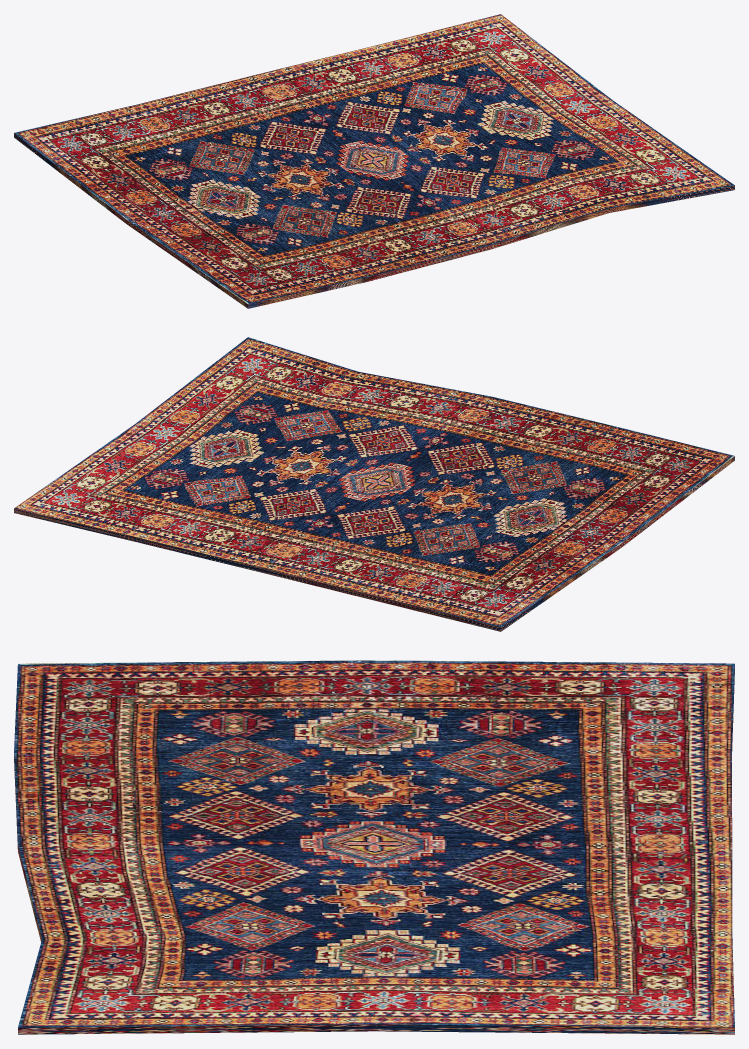
The model's file is Rug.fbx.
The picture shows the model from 3 angles, top to bottom: view 1: azimuth 30°, elevation 25°; view 2: azimuth 150°, elevation 25°; view 3: azimuth 270°, elevation 25°; orthographic projection. The views are drawn at different scales.
Parts seen in each view (by area): view 1: Rug; view 2: Rug; view 3: Rug.
Boxes of the visible parts, left/top/right/bottom form: Rug: left=14, top=14, right=734, bottom=308; Rug: left=14, top=337, right=734, bottom=631; Rug: left=14, top=660, right=734, bottom=1034.
Size of the model in its own units: 224 by 2.43 by 186.
